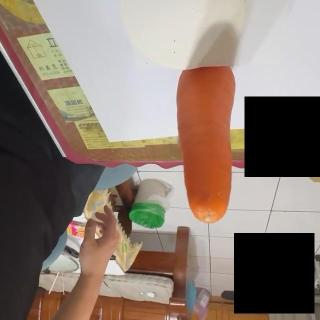carrot: (175, 62, 238, 224)
